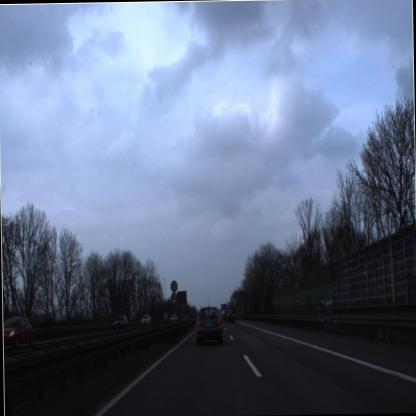prohibitory: (292, 292, 303, 309), (168, 290, 180, 305), (292, 277, 302, 292), (170, 276, 179, 292)
